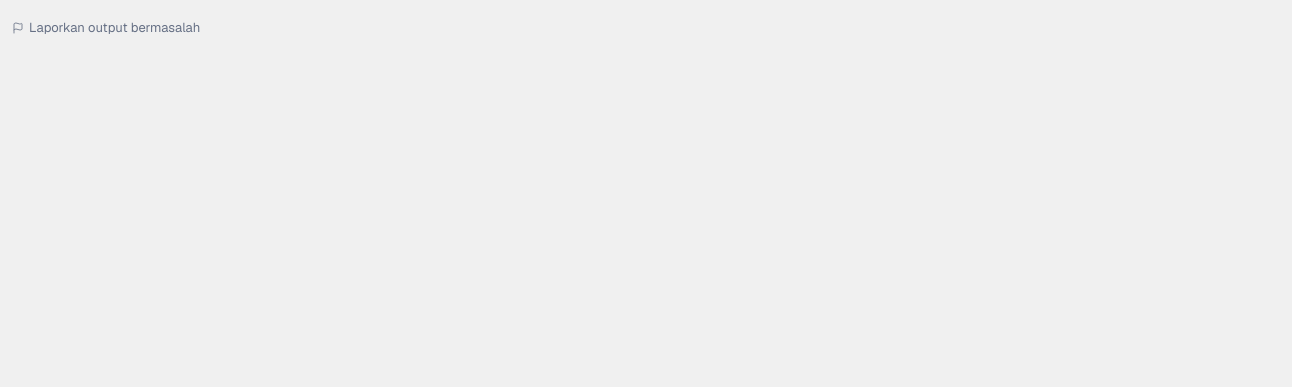
Test: report problematic output › stops a note with an identity pattern in the browser
Click the button "Laporkan output bermasalah" at {"x": 106, "y": 28}, box [12,16,200,40]
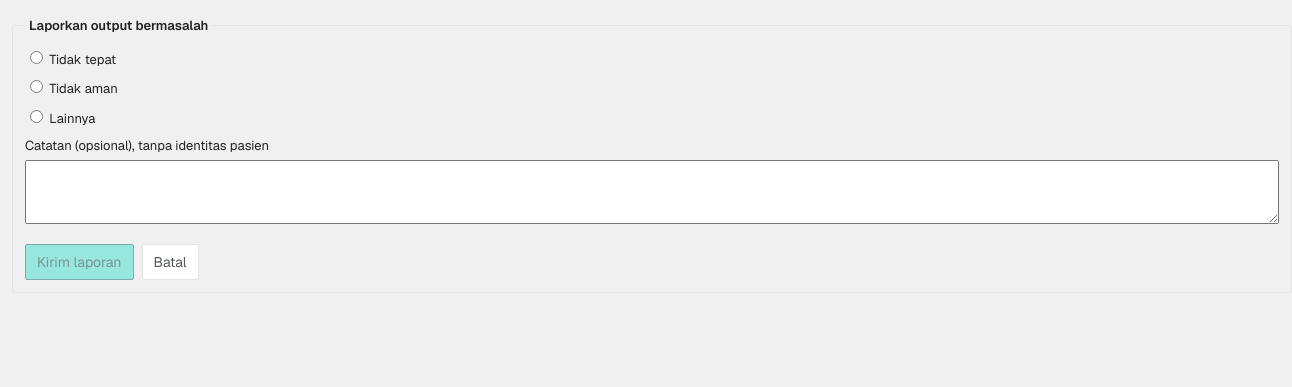
Click the radio button labelled "Lainnya" at {"x": 36, "y": 116}, box [30,110,43,122]
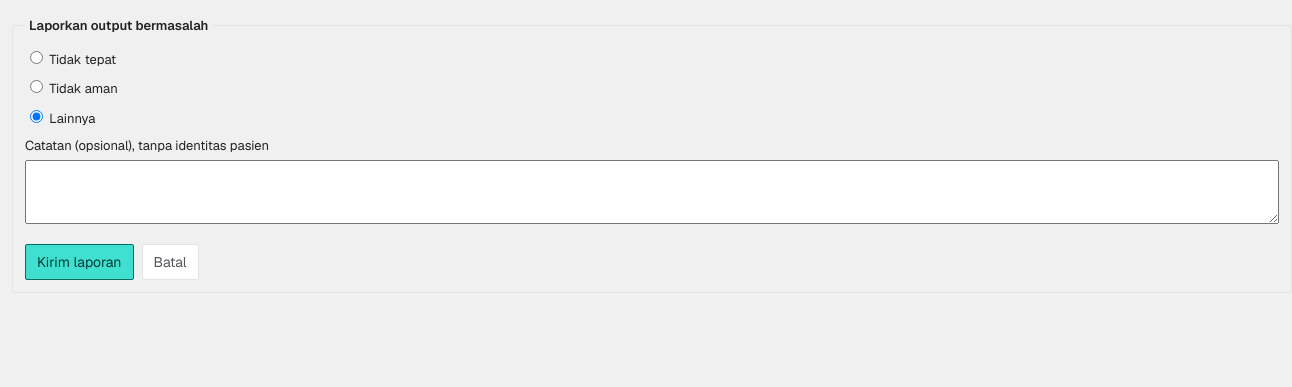
Type "NIK 3201234567890123" into the text box at {"x": 652, "y": 192}, box [25,160,1279,224]
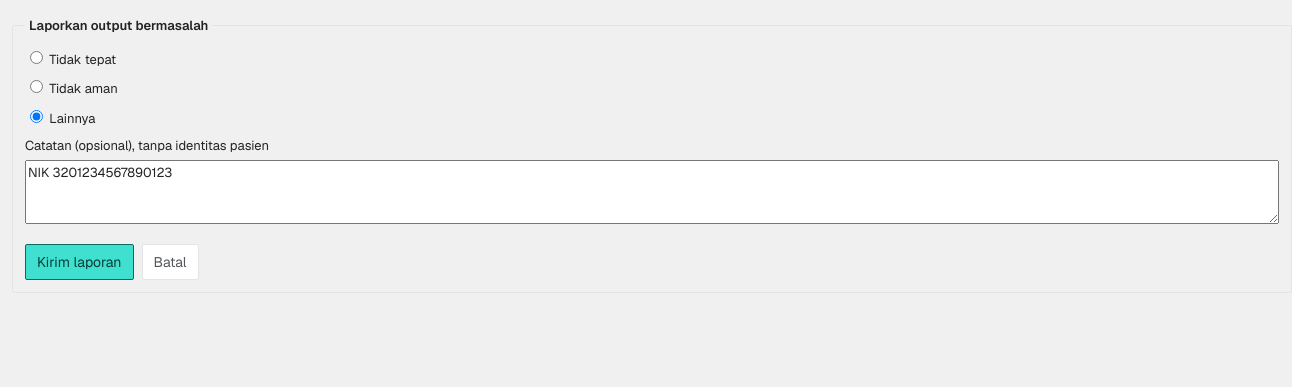
Click the button "Kirim laporan" at {"x": 79, "y": 262}, box [25,244,134,280]
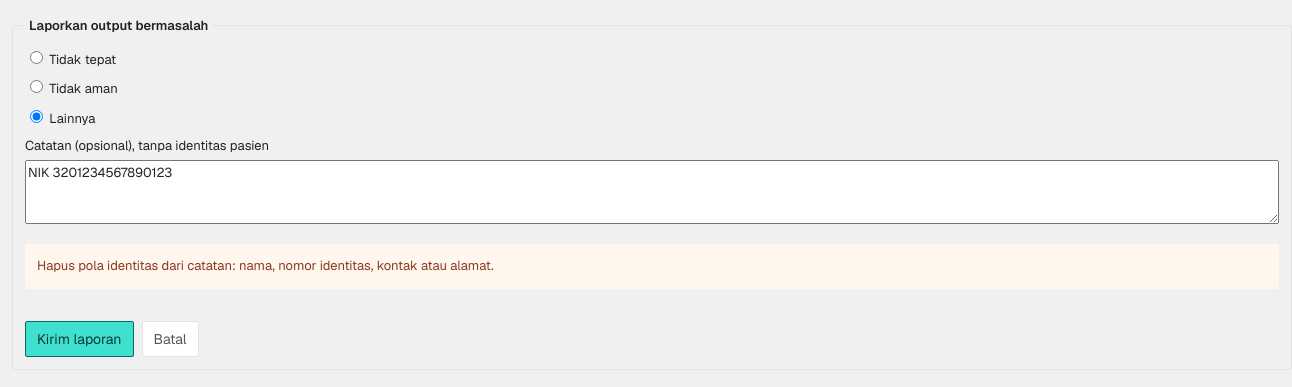
Expected: the message shows "pola identitas", [37,257,494,274]
